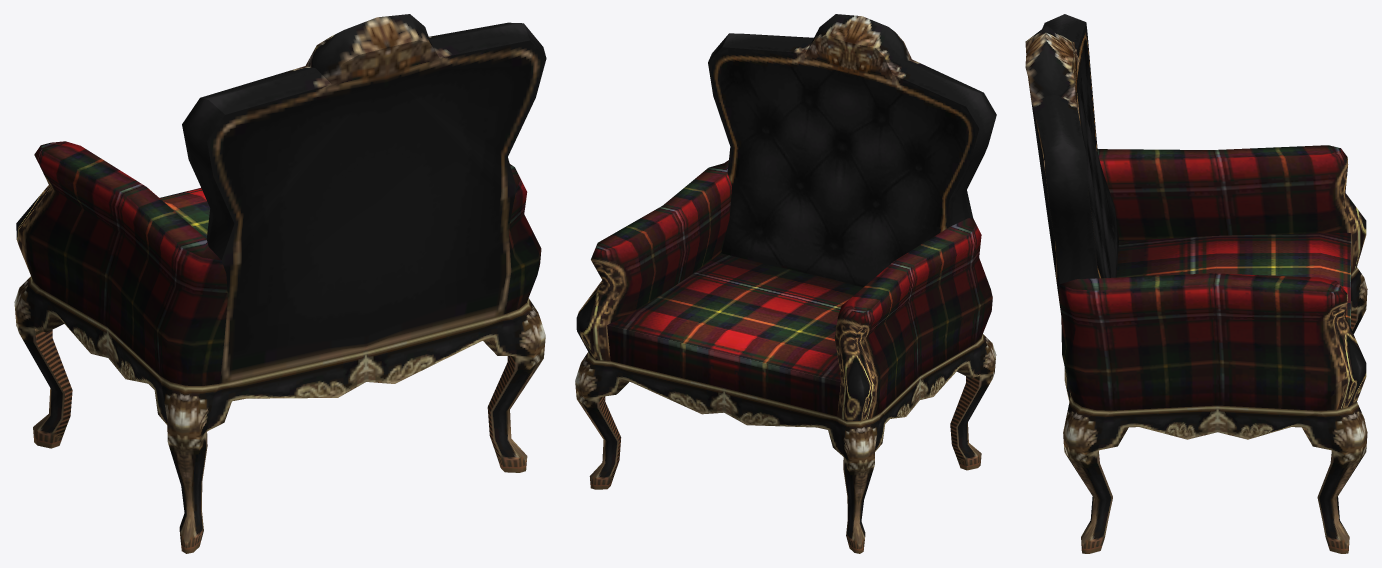
File: furni_0200313.FBX
3 renders of one model, left to right at view 1: azimuth 30°, elevation 25°; view 2: azimuth 150°, elevation 25°; view 3: azimuth 270°, elevation 25°, orthographic. The views are drawn at different scales.
Visible parts, largest first — view 1: furni_0200313; view 2: furni_0200313; view 3: furni_0200313.
Part boxes in pixels (left/top/right/bottom): furni_0200313: left=14, top=14, right=546, bottom=553; furni_0200313: left=575, top=14, right=996, bottom=553; furni_0200313: left=1025, top=14, right=1367, bottom=553.
Size of the model in its own units: 80.4 by 104 by 72.55.
1 material, 1 textured.
